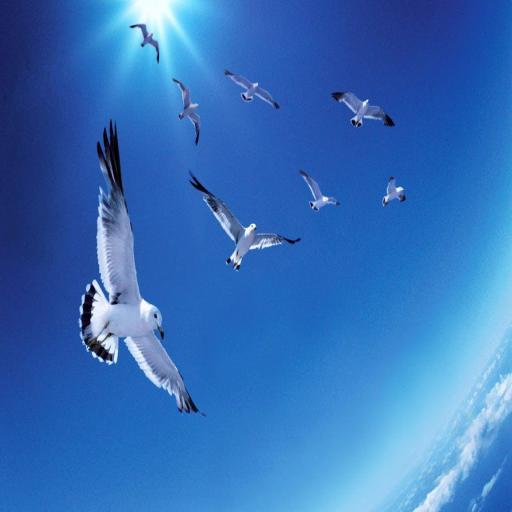bird: (83, 120, 205, 416), (188, 168, 301, 272), (331, 91, 395, 127), (225, 68, 281, 109), (172, 78, 201, 145), (297, 170, 340, 212), (129, 23, 160, 64), (382, 176, 406, 207)
